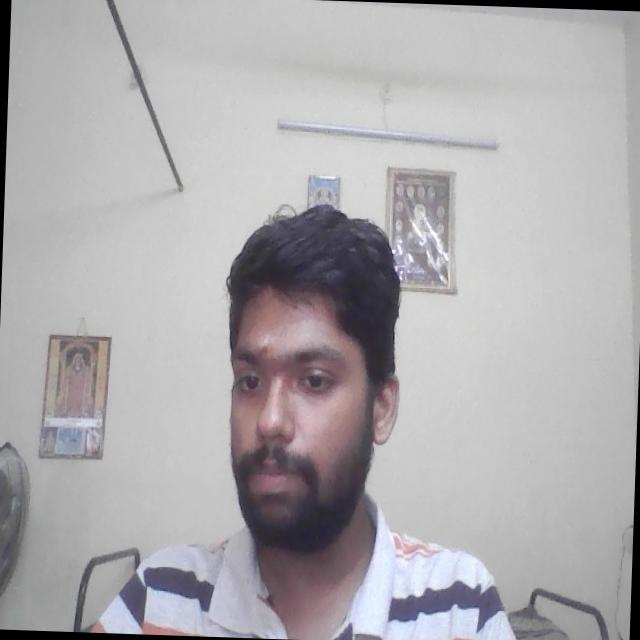Focused: (224, 308, 364, 513)
